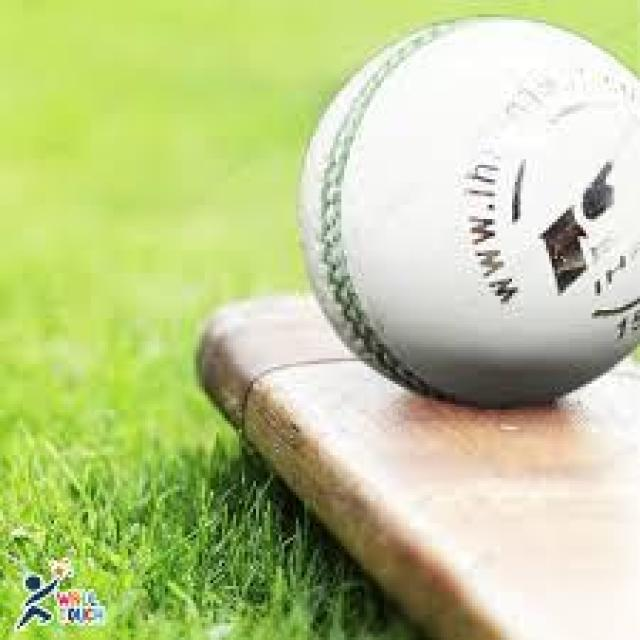ball: (298, 14, 640, 409)
